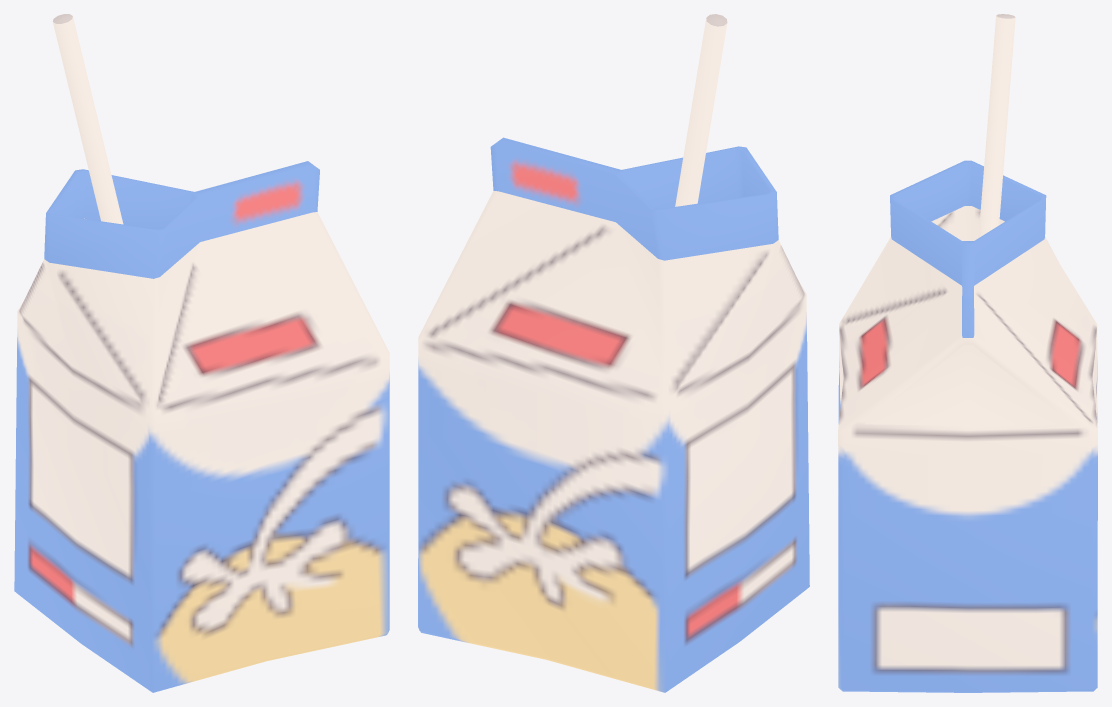
File: PackDrink.fbx
3 views of the same model, side by side, from view 1: azimuth 30°, elevation 25°; view 2: azimuth 150°, elevation 25°; view 3: azimuth 270°, elevation 25° (orthographic). The views are drawn at different scales.
Parts seen in each view (by area): view 1: PackDrink, Straw; view 2: PackDrink, Straw; view 3: PackDrink, Straw.
Part boxes in pixels (bbox=[...]): PackDrink: bbox=[14, 161, 389, 692]; Straw: bbox=[53, 14, 123, 224]; PackDrink: bbox=[418, 137, 809, 692]; Straw: bbox=[675, 14, 727, 206]; PackDrink: bbox=[838, 160, 1097, 692]; Straw: bbox=[978, 14, 1015, 237].
Bounding box in the file's own units: 0.0735 × 0.1532 × 0.0632.
